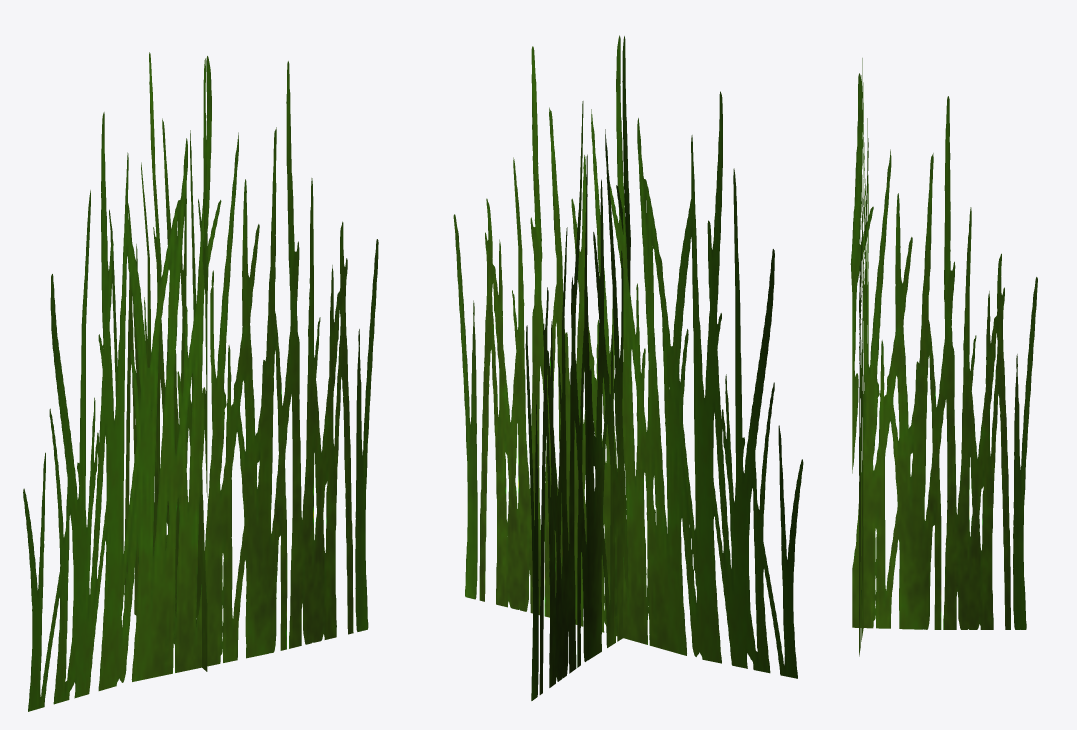
The model's file is SM_grass_01.glb.
3 renders of one model, left to right at view 1: azimuth 30°, elevation 25°; view 2: azimuth 150°, elevation 25°; view 3: azimuth 270°, elevation 25°, orthographic. The views are drawn at different scales.
Parts seen in each view (by area): view 1: SM_grass_01; view 2: SM_grass_01; view 3: SM_grass_01.
Part boxes in pixels (left/top/right/bottom): SM_grass_01: left=23, top=52, right=378, bottom=711; SM_grass_01: left=453, top=35, right=803, bottom=700; SM_grass_01: left=850, top=58, right=1037, bottom=656.
Size of the model in its own units: 0.2989 by 0.4533 by 0.1624.
1 material, 1 textured.
